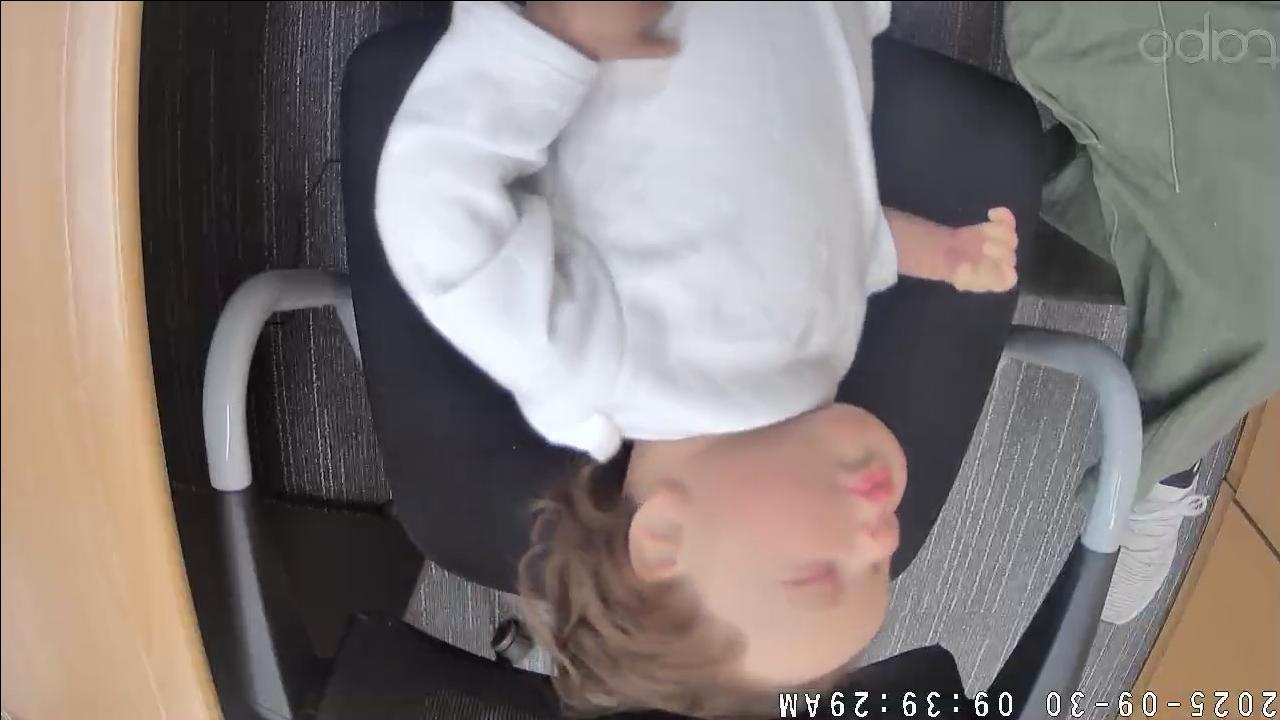hand: (536, 0, 684, 62), (944, 202, 1018, 294)
